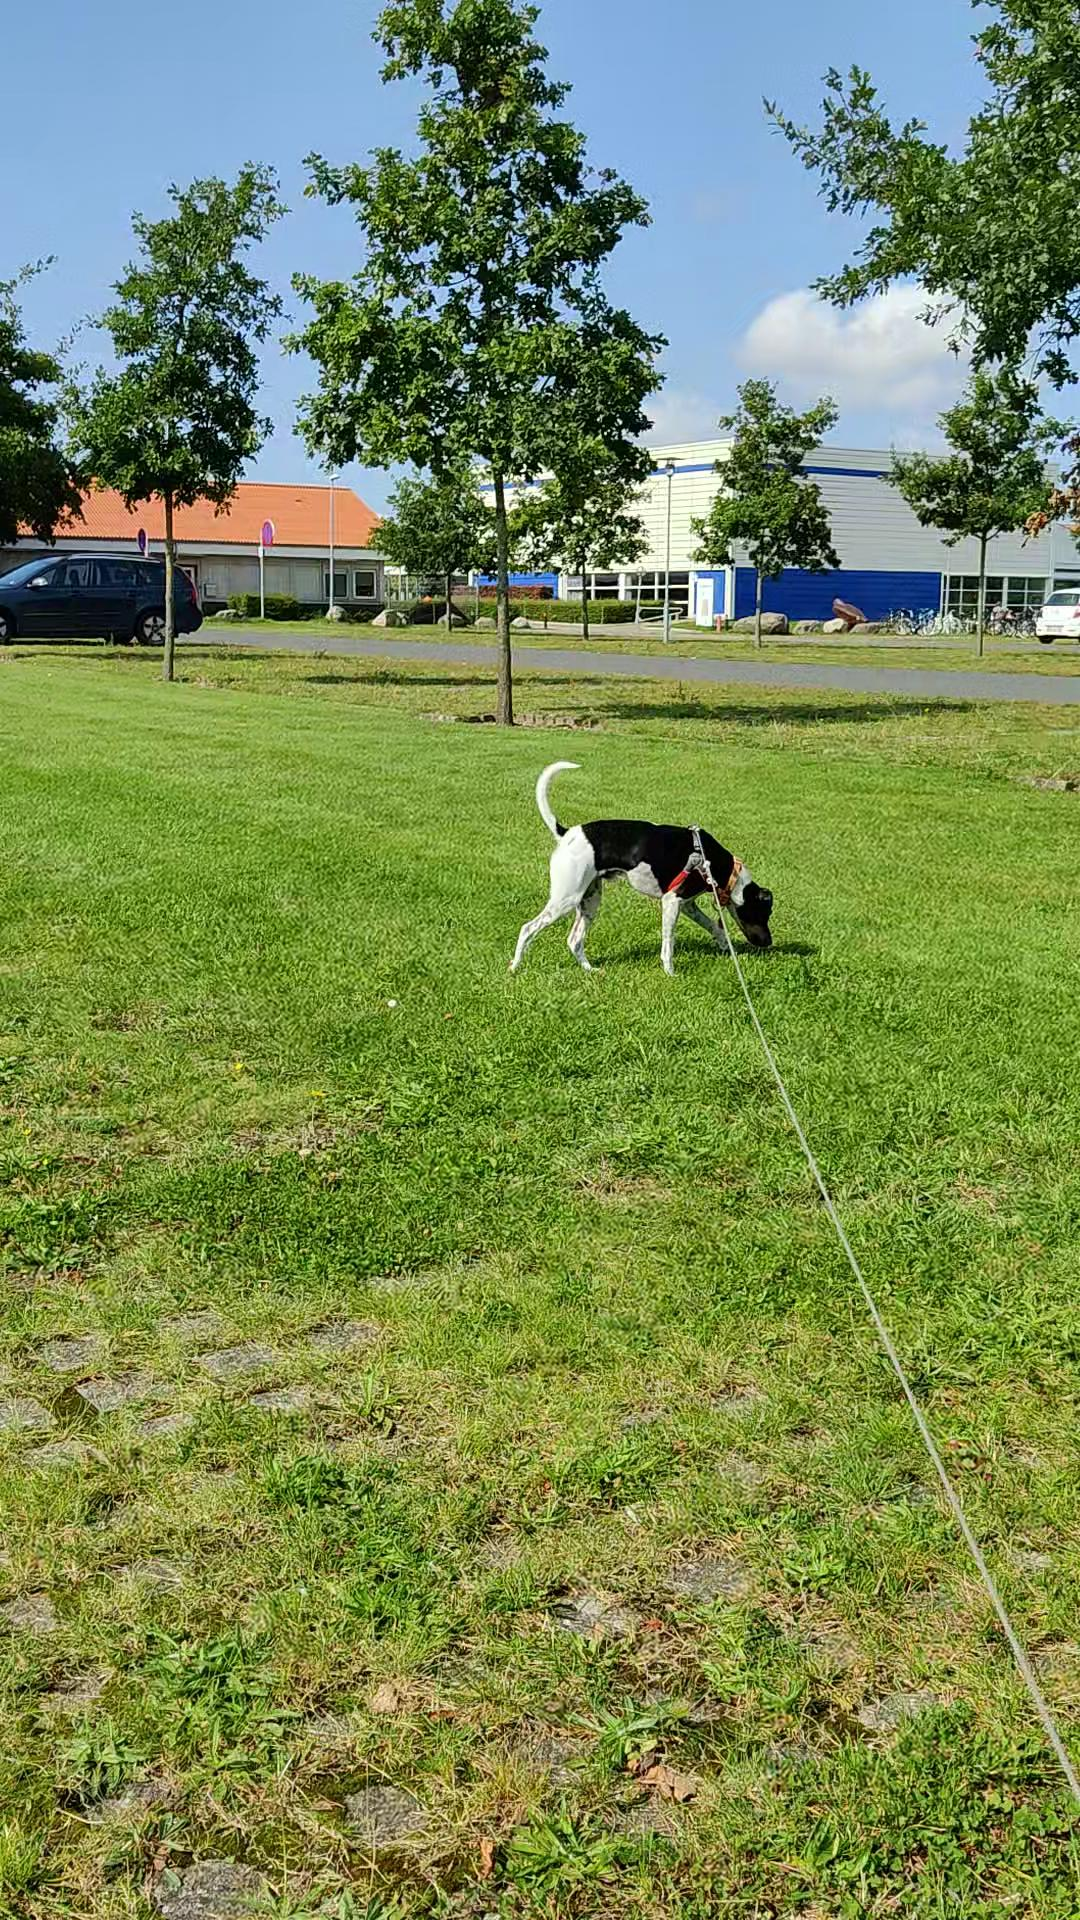Dog: (489, 748, 785, 989)
